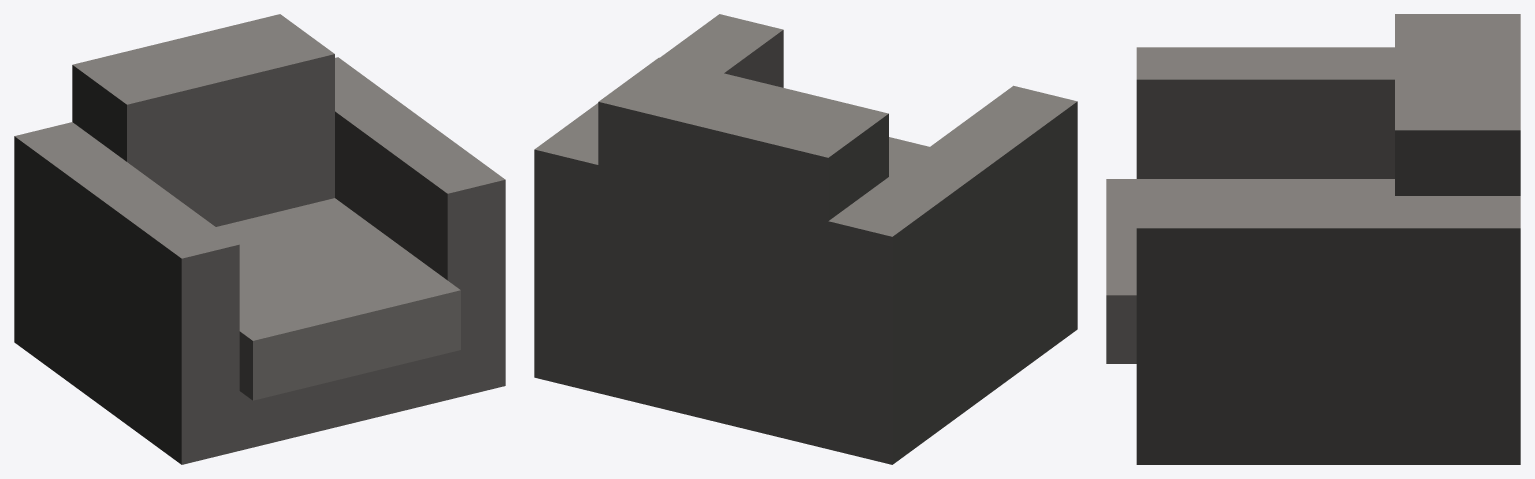
File: Couch1.FBX
3 renders of one model, left to right at view 1: azimuth 30°, elevation 25°; view 2: azimuth 150°, elevation 25°; view 3: azimuth 270°, elevation 25°, orthographic. The views are drawn at different scales.
Visible parts, largest first — view 1: SM_Couch_01; view 2: SM_Couch_01; view 3: SM_Couch_01.
Part boxes in pixels (box(x1,y1,x2,y2)): SM_Couch_01: box(14, 14, 505, 464); SM_Couch_01: box(534, 14, 1077, 464); SM_Couch_01: box(1106, 14, 1520, 464).
Size of the model in its own units: 62.46 by 48.58 by 60.36.
